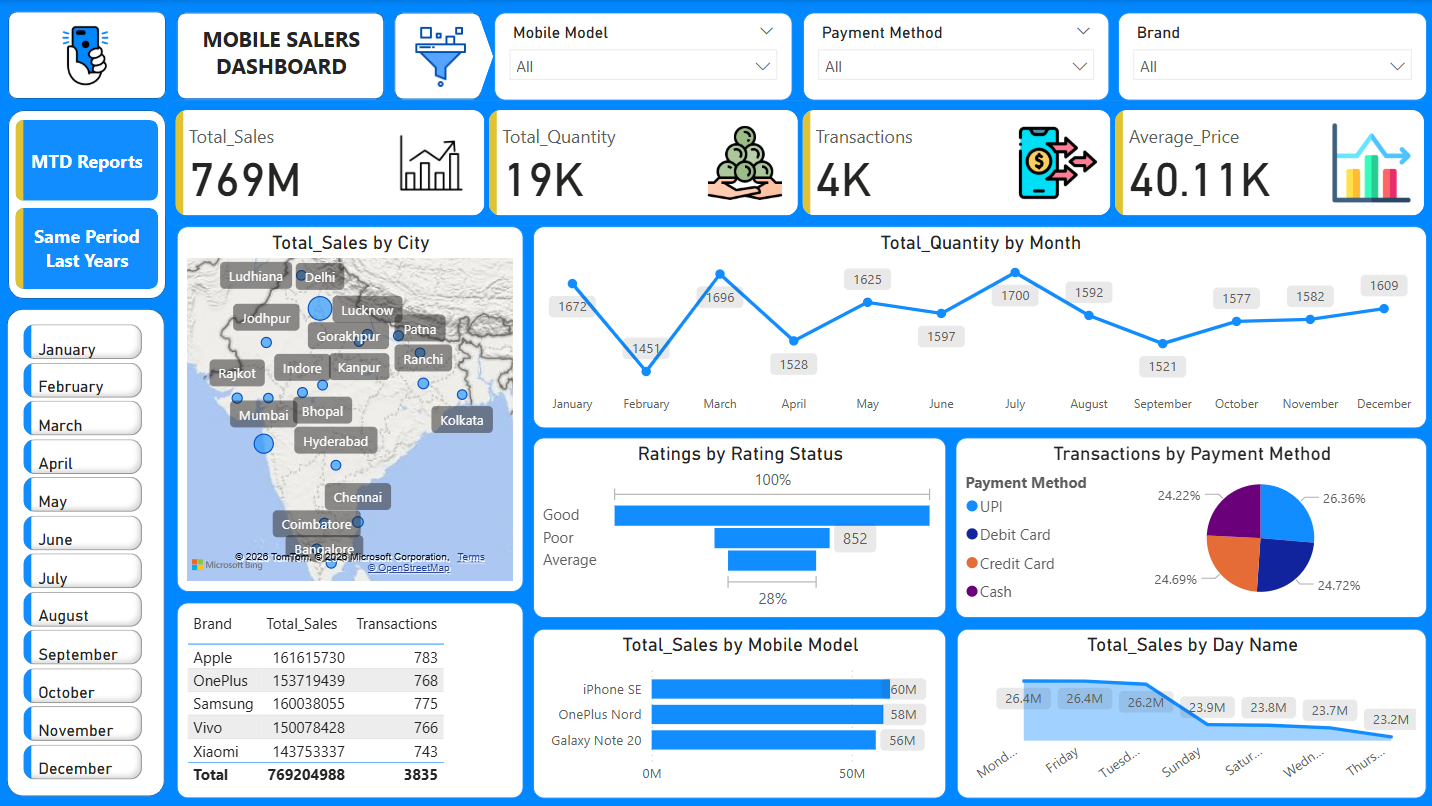

This screenshot's page, from the dashboard's own definition file:
{"tool":"powerbi","page":{"name":"Dashboard","canvas":[1280,720],"ordinal":0},"visuals":[{"type":"shape","box":[8.4,9.7,141.2,78.4],"z":0},{"type":"image","box":[18.1,9.7,119.4,78.4],"z":1000},{"type":"shape","box":[8.4,97.7,141.2,168.9],"z":2000},{"type":"shape","box":[7.2,275.1,141.2,435.5],"z":3000},{"type":"advancedSlicerVisual","fields":{"Values":["Custom_Calendar.Date.Variation.Date Hierarchy.Month"]},"box":[18.1,283.5,115.8,418.6],"z":4000},{"type":"cardVisual","fields":{"Data":["Sales_Data.Total_Sales","Sales_Data.Total_Quantity","Sales_Data.Transactions","Sales_Data.Average_Price"]},"box":[149.6,89.3,1130.4,112.2],"z":5000},{"type":"slicer","fields":{"Values":["Sales_Data.Mobile Model"]},"box":[441.6,10.9,265.4,78.4],"z":6000},{"type":"slicer","fields":{"Values":["Sales_Data.Payment Method"]},"box":[716.6,10.9,272.7,78.4],"z":7000},{"type":"slicer","fields":{"Values":["Sales_Data.Brand"]},"box":[997.7,10.9,275.1,78.4],"z":8000},{"type":"shape","box":[352.5,11.2,77.5,77.5],"z":9000},{"type":"image","box":[361.2,16.2,65,68.8],"z":10000},{"type":"shape","box":[417.5,16.2,23.8,67.5],"z":11000},{"type":"shape","box":[158.8,11.2,185,77.5],"z":12000},{"type":"textbox","box":[168.8,16.2,166.2,70],"z":13000},{"type":"map","fields":{"Category":["Sales_Data.City"],"Size":["Sales_Data.Total_Sales"]},"box":[159.2,201.7,308.7,325.2],"z":14000},{"type":"lineChart","fields":{"Category":["Custom_Calendar.Date.Variation.Date Hierarchy.Month"],"Y":["Sales_Data.Total_Quantity"]},"box":[476.5,201.5,796.3,179.8],"z":15000},{"type":"funnel","title":"Ratings by Rating Status","fields":{"Y":["CountNonNull(Sales_Data.Customer Age)"],"Category":["Sales_Data.Rating Status"]},"box":[476.2,389.7,367.8,160.5],"z":16000},{"type":"pieChart","fields":{"Category":["Sales_Data.Payment Method"],"Y":["Sales_Data.Transactions"]},"box":[853,389.7,419.8,160.5],"z":17000},{"type":"clusteredBarChart","fields":{"Y":["Sales_Data.Total_Sales"],"Category":["Sales_Data.Mobile Model"]},"box":[476.2,559.9,367.8,150.9],"z":18000},{"type":"areaChart","fields":{"Y":["Sales_Data.Total_Sales"],"Category":["Custom_Calendar.Day Name"]},"box":[853.5,559.9,418.5,150.9],"z":19000},{"type":"tableEx","fields":{"Values":["Sales_Data.Brand","Sales_Data.Total_Sales","Sales_Data.Transactions"]},"box":[159.2,536.5,308.7,174.3],"z":20000},{"type":"pageNavigator","box":[15.7,107.4,127.9,150.8],"z":20001}]}

Visuals, with their boxes in screenshot pixels (x1, y1, x2, y2), scaled from the page's 1280x720 canvas onto the 1432x806 screenshot:
shape: locate(9, 11, 167, 99)
image: locate(20, 11, 154, 99)
shape: locate(9, 109, 167, 298)
shape: locate(8, 308, 166, 795)
advancedSlicerVisual - Custom_Calendar.Date.Variation.Date Hierarchy.Month: locate(20, 317, 150, 786)
cardVisual - Sales_Data.Total_Sales x Sales_Data.Total_Quantity: locate(167, 100, 1431, 226)
slicer - Sales_Data.Mobile Model: locate(494, 12, 791, 100)
slicer - Sales_Data.Payment Method: locate(802, 12, 1107, 100)
slicer - Sales_Data.Brand: locate(1116, 12, 1424, 100)
shape: locate(394, 13, 481, 99)
image: locate(404, 18, 477, 95)
shape: locate(467, 18, 494, 94)
shape: locate(178, 13, 385, 99)
textbox: locate(189, 18, 375, 96)
map - Sales_Data.City x Sales_Data.Total_Sales: locate(178, 226, 523, 590)
lineChart - Custom_Calendar.Date.Variation.Date Hierarchy.Month x Sales_Data.Total_Quantity: locate(533, 226, 1424, 427)
"Ratings by Rating Status" funnel: locate(533, 436, 944, 616)
pieChart - Sales_Data.Payment Method x Sales_Data.Transactions: locate(954, 436, 1424, 616)
clusteredBarChart - Sales_Data.Total_Sales x Sales_Data.Mobile Model: locate(533, 627, 944, 796)
areaChart - Sales_Data.Total_Sales x Custom_Calendar.Day Name: locate(955, 627, 1423, 796)
tableEx - Sales_Data.Brand x Sales_Data.Total_Sales: locate(178, 601, 523, 796)
pageNavigator: locate(18, 120, 161, 289)
